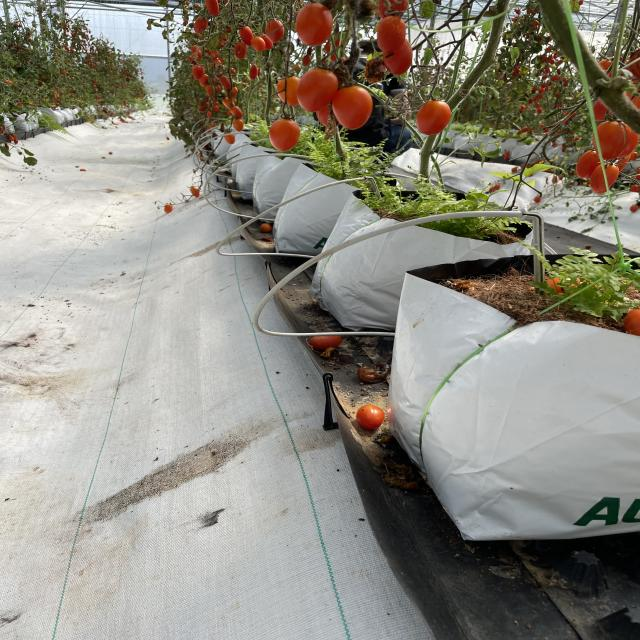Obstacle: (234, 202, 557, 337)
Soilbag: (376, 255, 640, 549), (293, 195, 541, 331)
